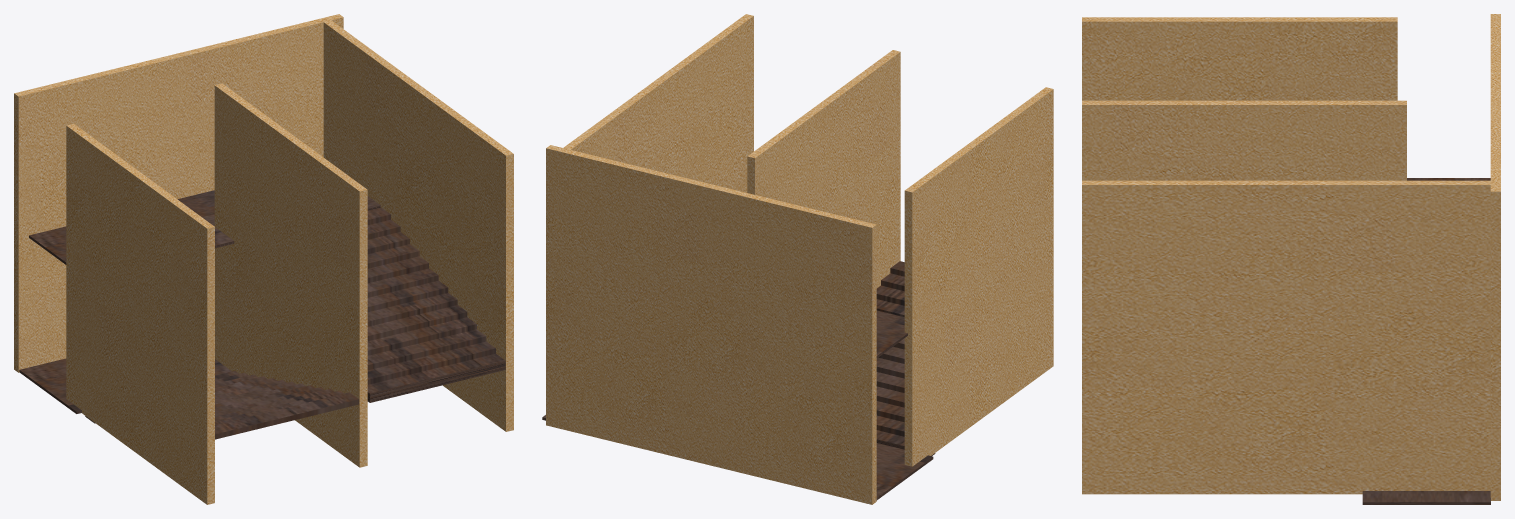
File: ESCADA.fbx
3 renders of one model, left to right at view 1: azimuth 30°, elevation 25°; view 2: azimuth 150°, elevation 25°; view 3: azimuth 270°, elevation 25°, orthographic. The views are drawn at different scales.
Visible parts, largest first — view 1: Cube.001; view 2: Cube.001; view 3: Cube.001.
Boxes of the visible parts, box(x1,y1,x2,y2) form: Cube.001: box(14, 14, 513, 504); Cube.001: box(542, 14, 1053, 504); Cube.001: box(1082, 14, 1500, 504).
Size of the model in its own units: 672 by 539 by 652.
